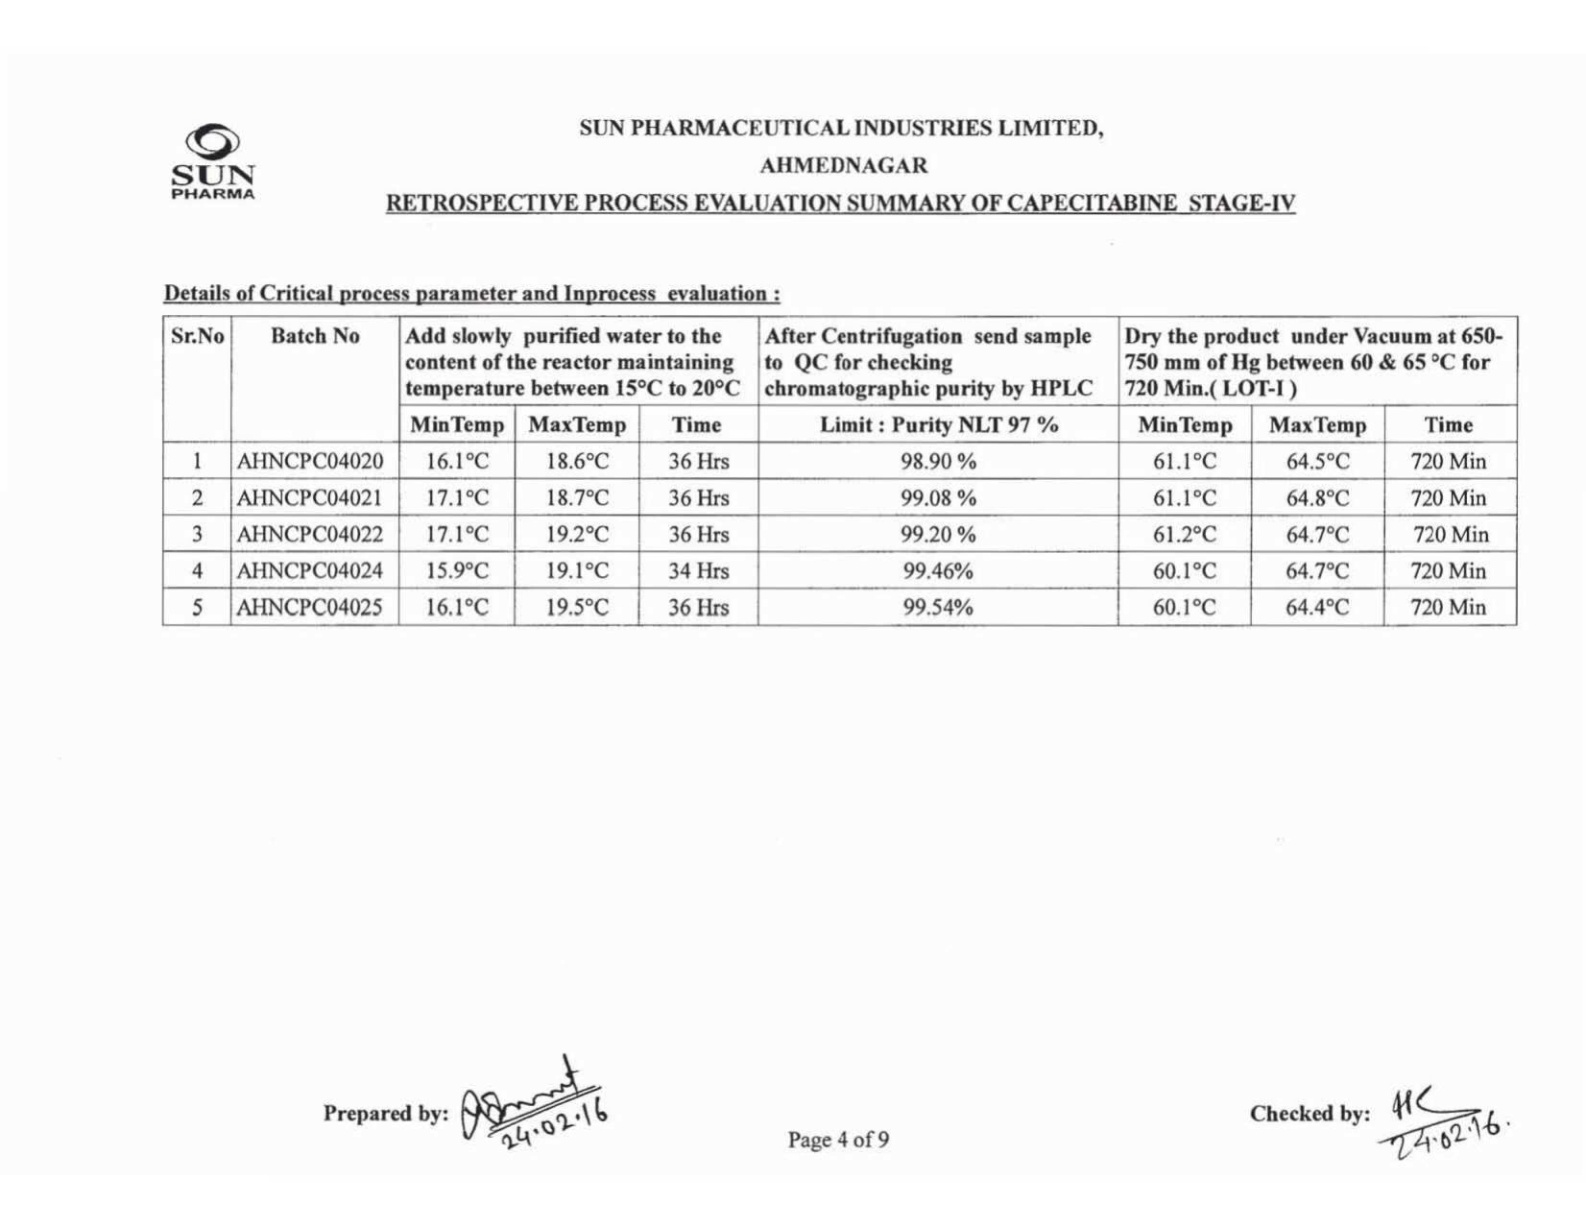merged_cells: (161, 314, 1519, 627)
